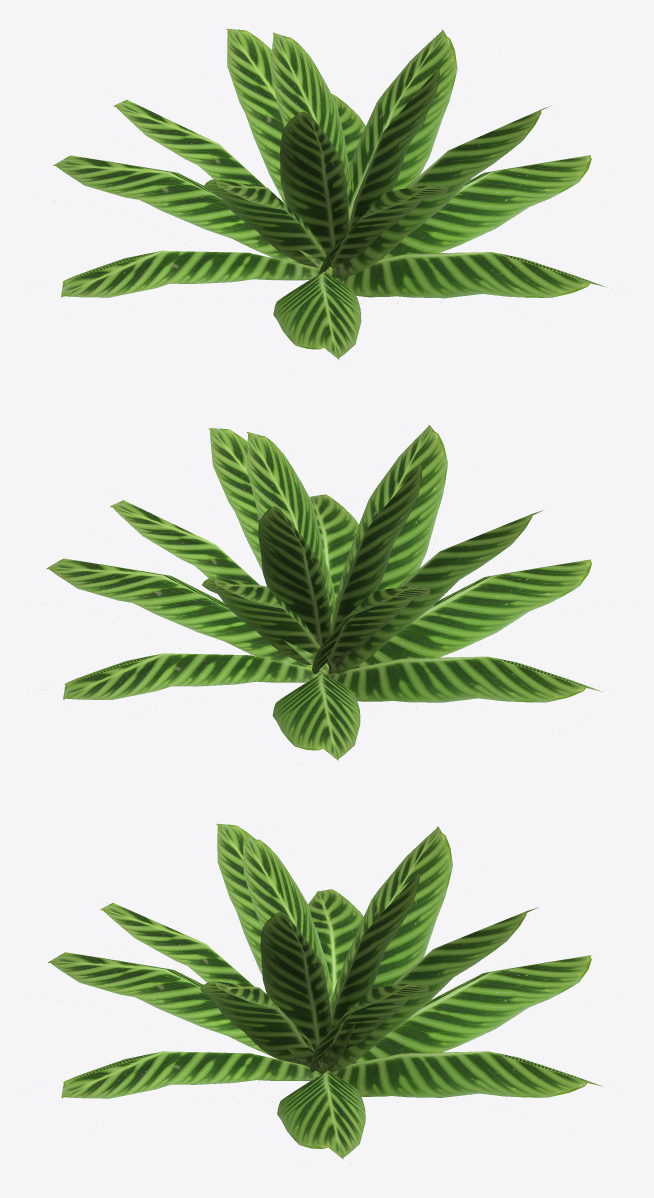
Rendered from plant14.FBX.
The picture shows the model from 3 angles, top to bottom: view 1: azimuth 30°, elevation 25°; view 2: azimuth 150°, elevation 25°; view 3: azimuth 270°, elevation 25°; orthographic projection.
Visible parts, largest first — view 1: plant14; view 2: plant14; view 3: plant14.
Boxes of the visible parts, left/top/right/bottom form: plant14: left=53, top=28, right=606, bottom=359; plant14: left=46, top=425, right=601, bottom=760; plant14: left=48, top=823, right=602, bottom=1159.
Bounding box in the file's own units: 6.51 × 2.49 × 6.16.
